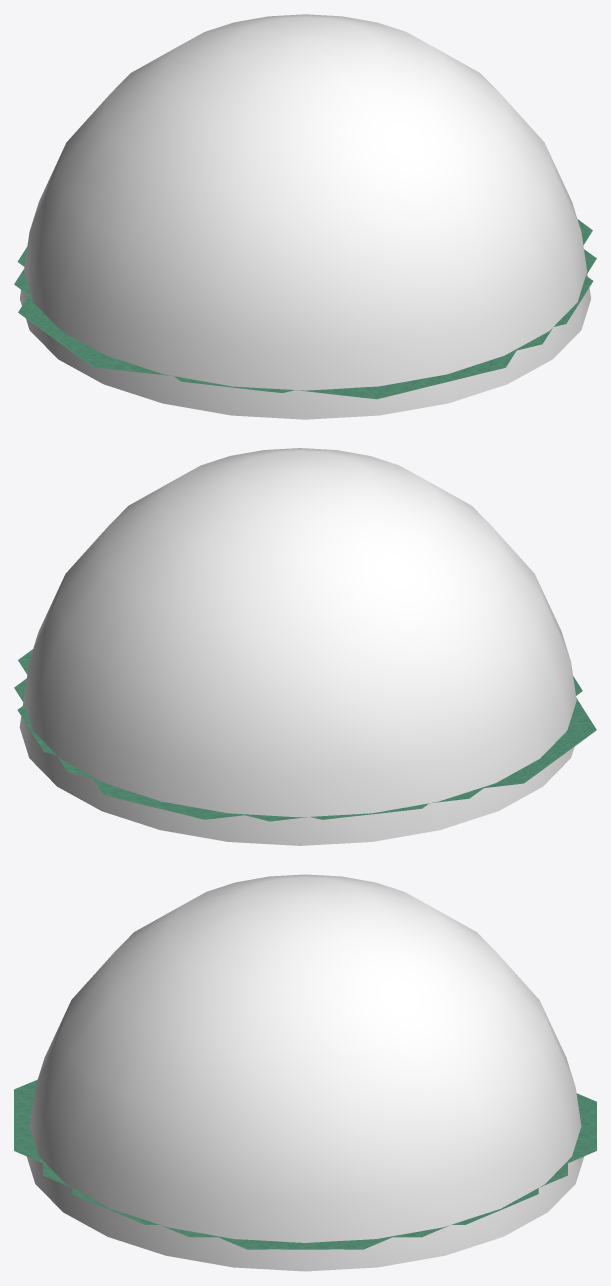
File: forest.glb
The picture shows the model from 3 angles, top to bottom: view 1: azimuth 30°, elevation 25°; view 2: azimuth 150°, elevation 25°; view 3: azimuth 270°, elevation 25°; orthographic projection. The views are drawn at different scales.
Visible parts, largest first — view 1: sa03b1bac001, sa03b1floor06; view 2: sa03b1bac001, sa03b1floor06; view 3: sa03b1bac001, sa03b1floor06.
Boxes of the visible parts, x1,y1,x2,y2 form: sa03b1bac001: (20,14,590,419); sa03b1floor06: (14,219,596,399); sa03b1bac001: (19,448,576,845); sa03b1floor06: (14,649,596,821); sa03b1bac001: (26,874,584,1271); sa03b1floor06: (14,1079,596,1249).
Size of the model in its own units: 200 by 98.51 by 200.
47 materials, 47 textured.
